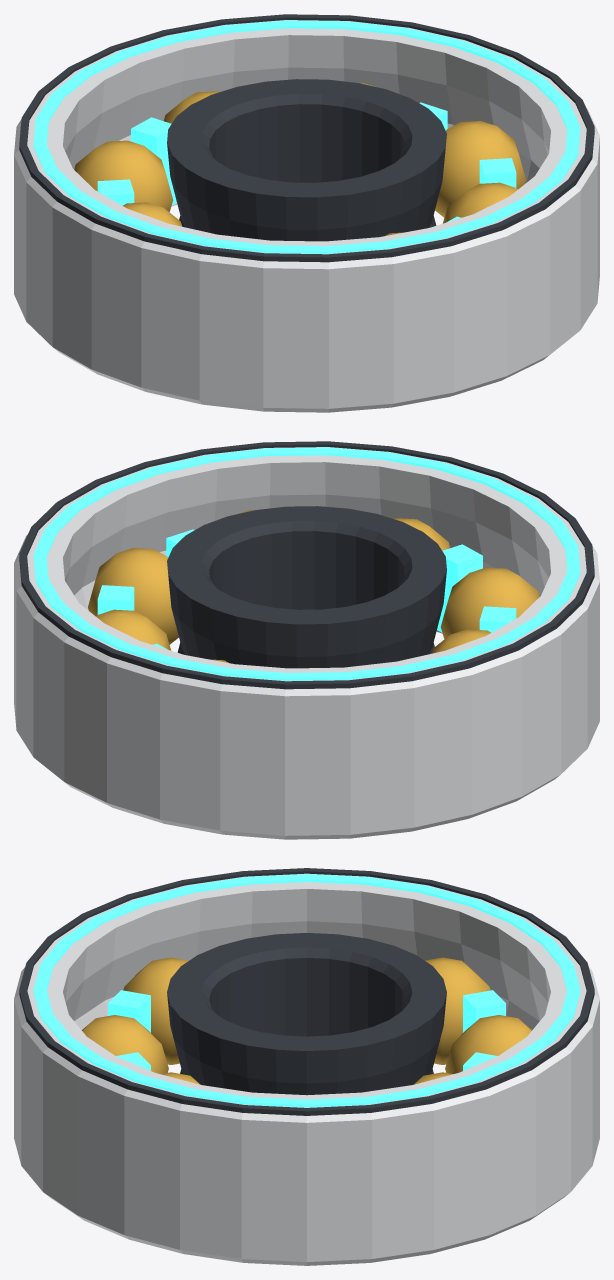
Rendered from bearing_space.glb.
3 views of the same model, one above another, from view 1: azimuth 30°, elevation 25°; view 2: azimuth 150°, elevation 25°; view 3: azimuth 270°, elevation 25° (orthographic).
Visible parts, largest first — view 1: bearing_space; view 2: bearing_space; view 3: bearing_space.
Boxes of the visible parts, x1,y1,x2,y2 form: bearing_space: (14, 14, 599, 412); bearing_space: (14, 441, 599, 839); bearing_space: (14, 868, 599, 1265).
Bounding box in the file's own units: 0.09 × 0.0264 × 0.09.
